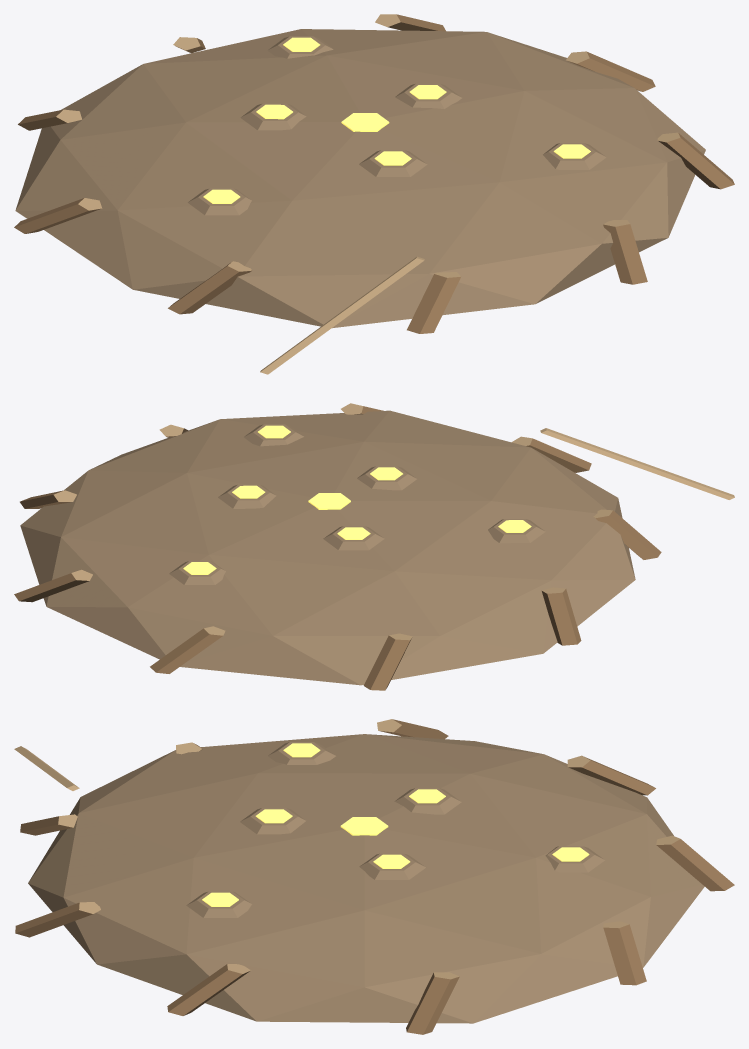
Rendered from building_charcoal_clamp_foundation.glb.
3 views of the same model, one above another, from view 1: azimuth 30°, elevation 25°; view 2: azimuth 150°, elevation 25°; view 3: azimuth 270°, elevation 25° (orthographic). The views are drawn at different scales.
Parts seen in each view (by area): view 1: building_charcoal_clamp_foundation; view 2: building_charcoal_clamp_foundation; view 3: building_charcoal_clamp_foundation.
Boxes of the visible parts, x1,y1,x2,y2 form: building_charcoal_clamp_foundation: (14,14,734,374); building_charcoal_clamp_foundation: (14,403,734,690); building_charcoal_clamp_foundation: (14,719,734,1034).
Bounding box in the file's own units: 2 × 0.1855 × 2.
